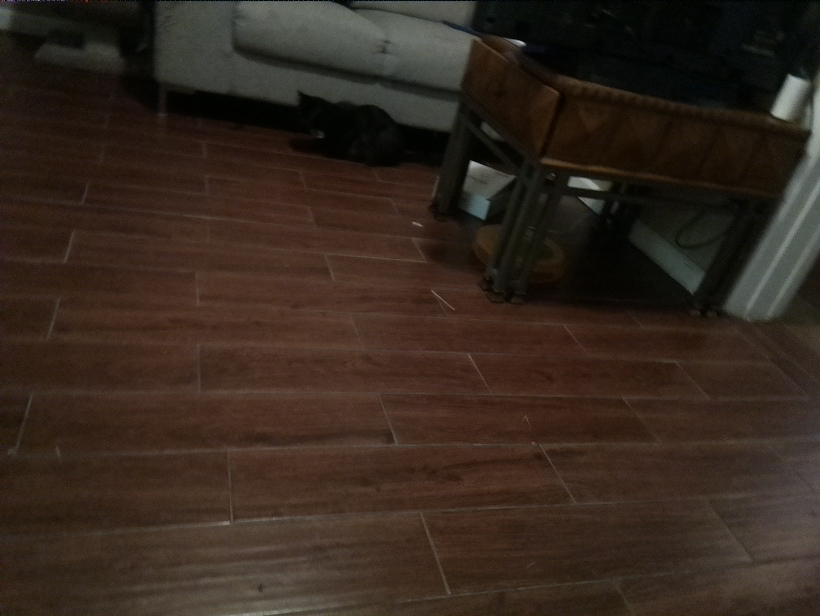cat: (286, 86, 450, 173)
